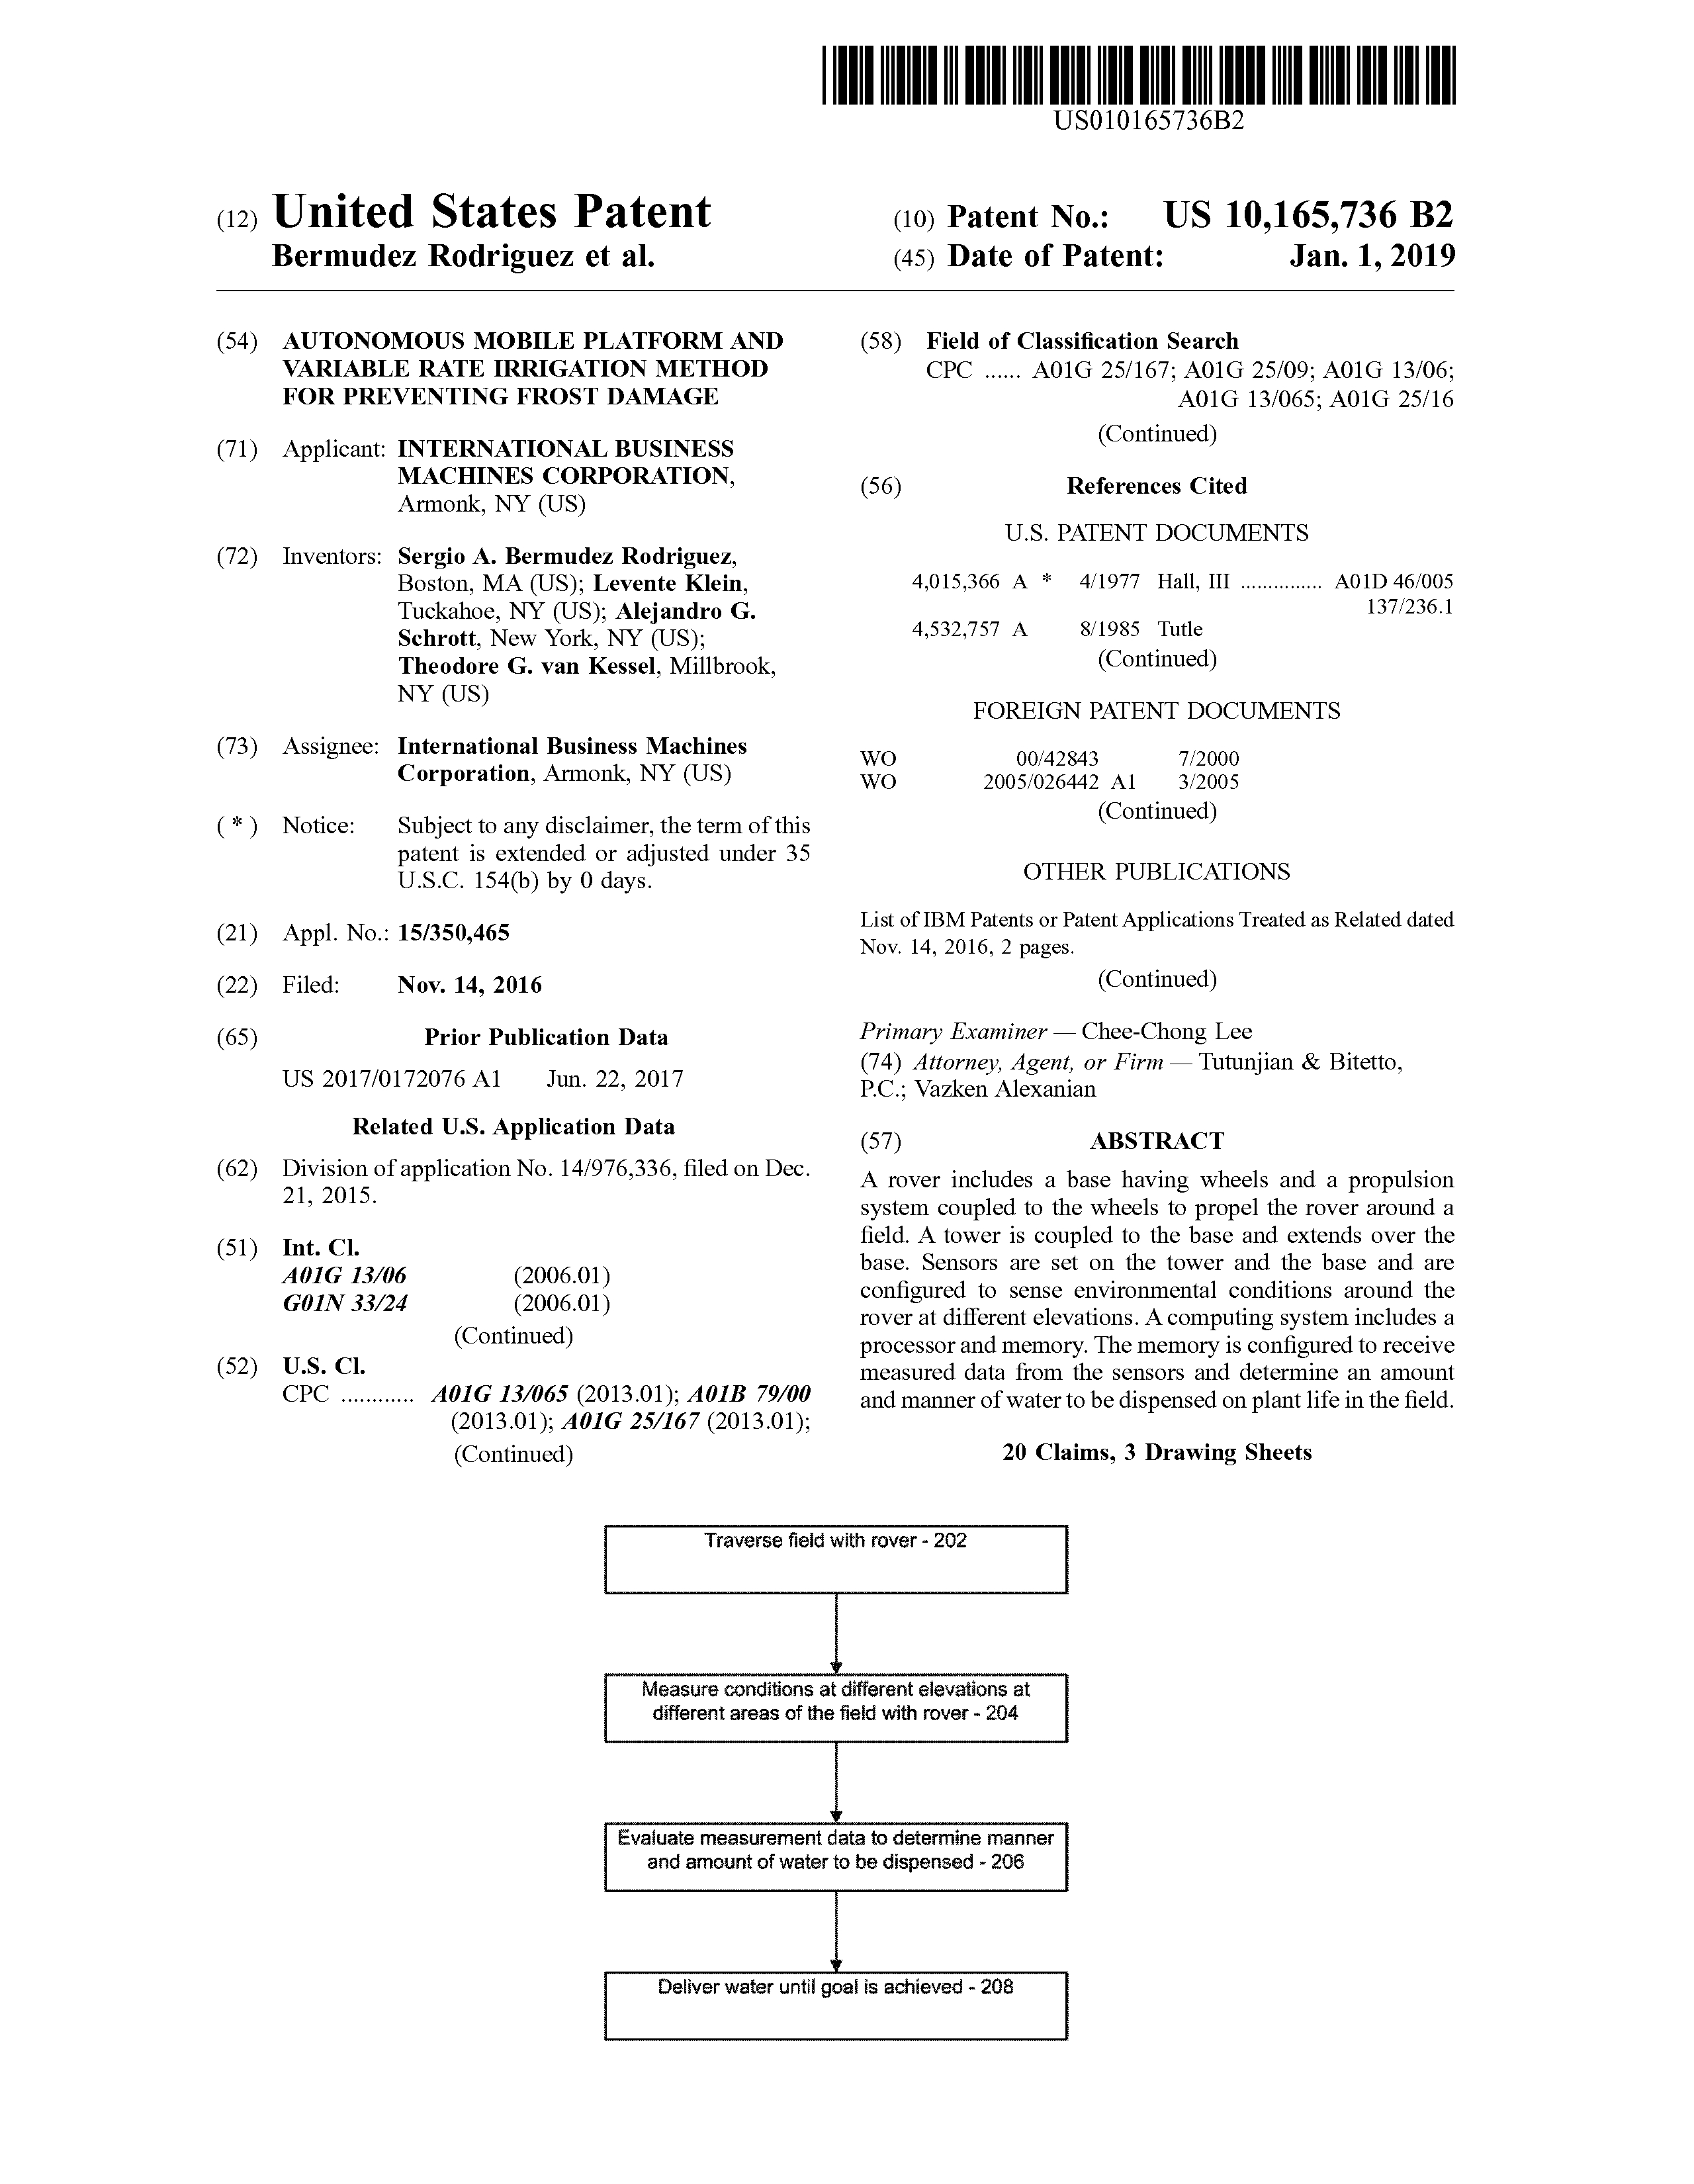patent image: (526, 1490, 1110, 2066)
